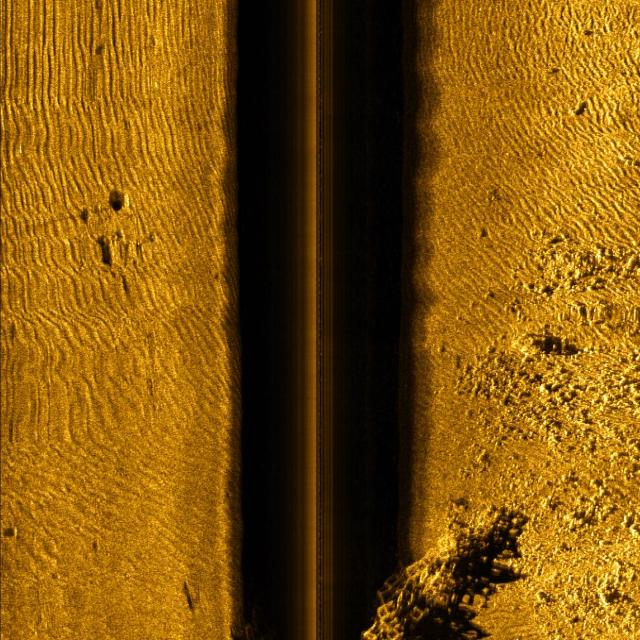artificial reef: (361, 540, 478, 640)
